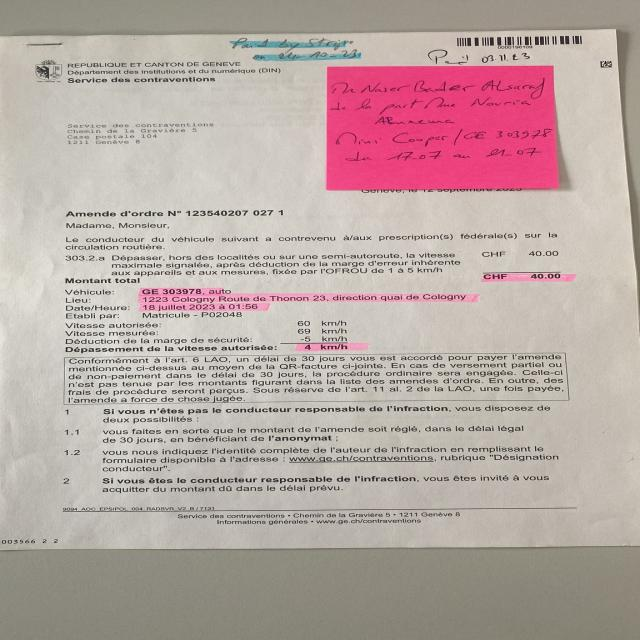paper-document-: (0, 28, 637, 550)
